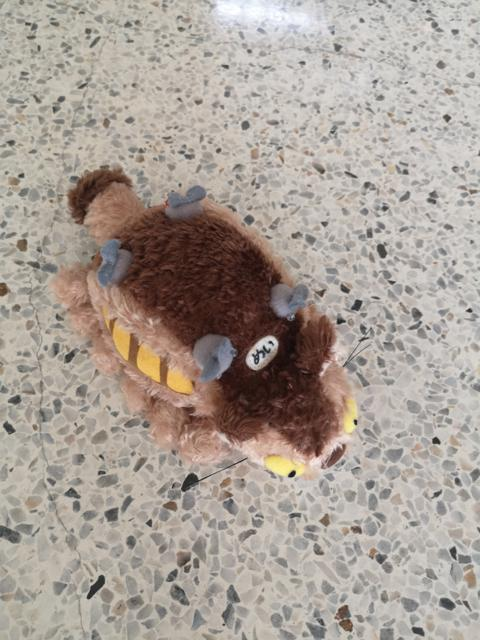nekobus: (45, 165, 367, 484)
